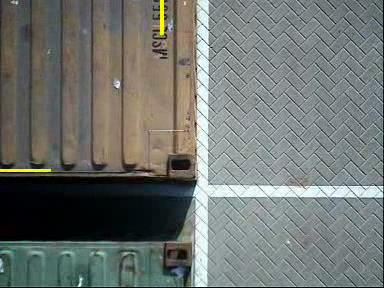groundmarker_2: (202, 35, 238, 85), (199, 207, 235, 257)
